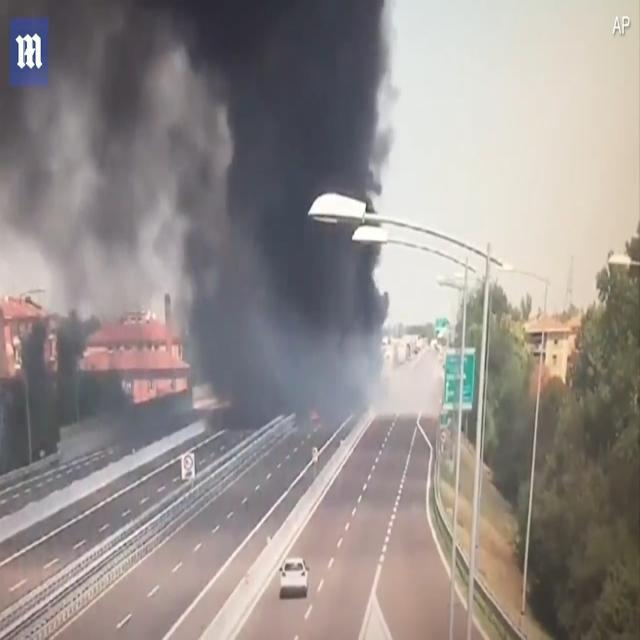Smoke: (0, 0, 388, 428)
